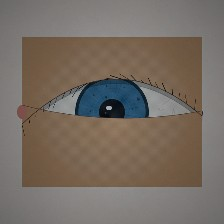hemorrhage_spot: (73, 67, 150, 129)
